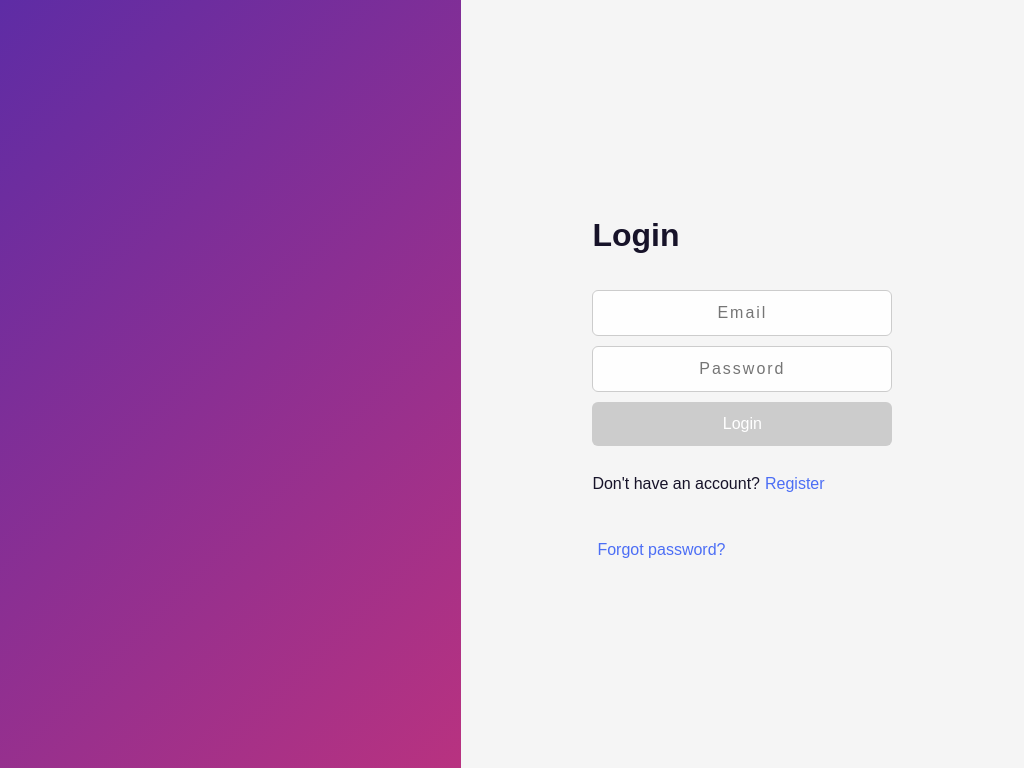
Test: Unit-тестування компонента <Login /> › кнопка Login стає активною, якщо ввести правильні дані
In the field with placeholder "Email": (742, 313) [592,290,892,336], type "test@gmail.com"
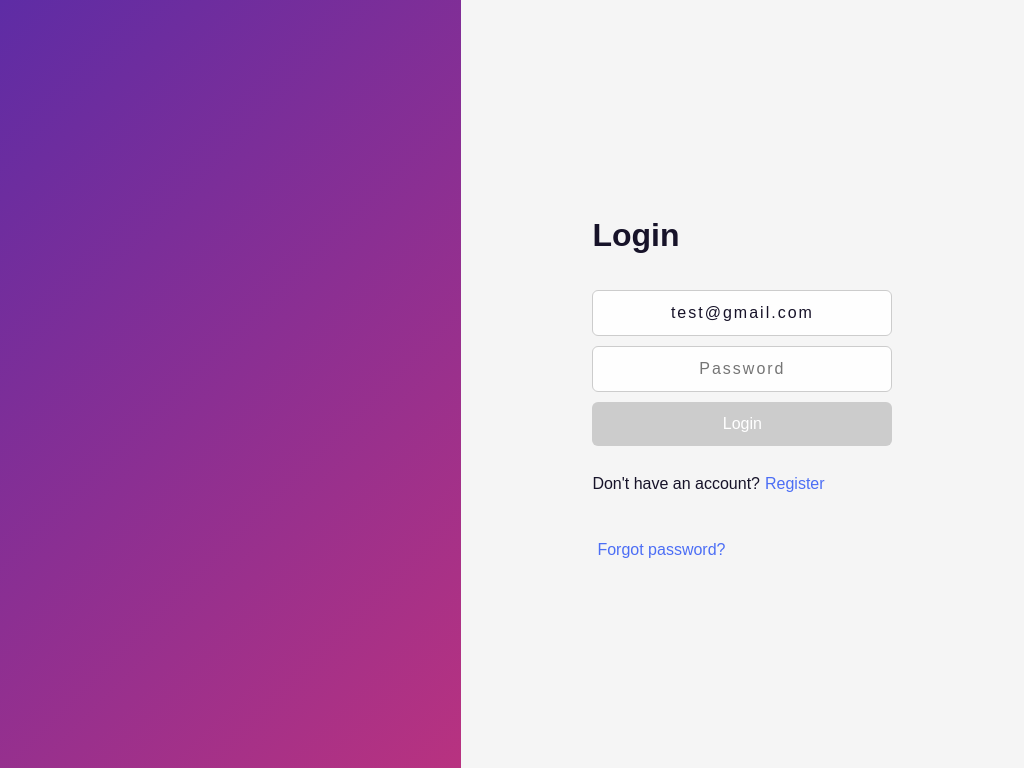
In the password field with placeholder "Password": (742, 369) [592,346,892,392], type "StrongPass2026"
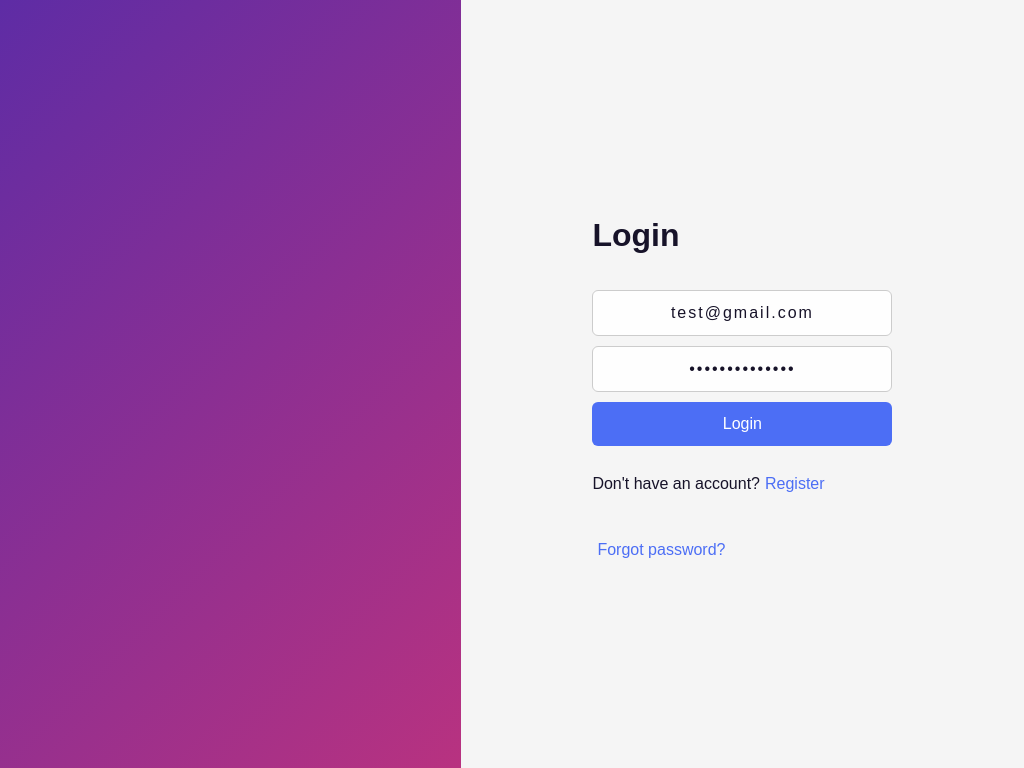
Expected: the button "Login" is enabled, [592,402,892,446]
